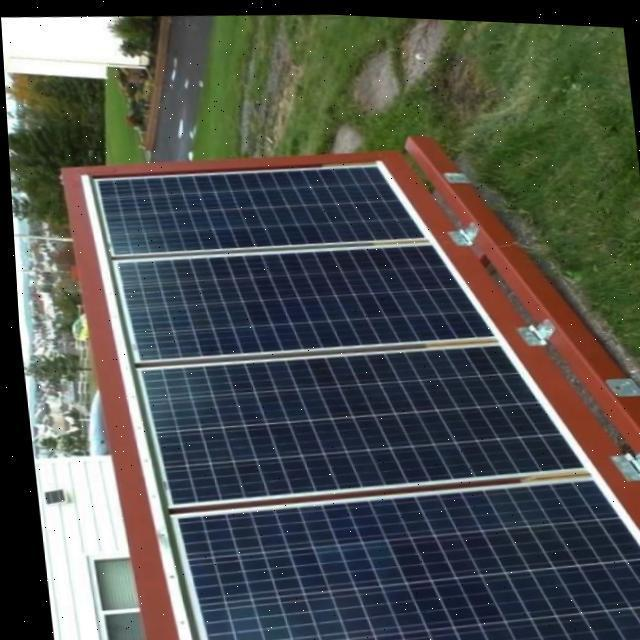Normal Solar Panel: (83, 131, 640, 640)
